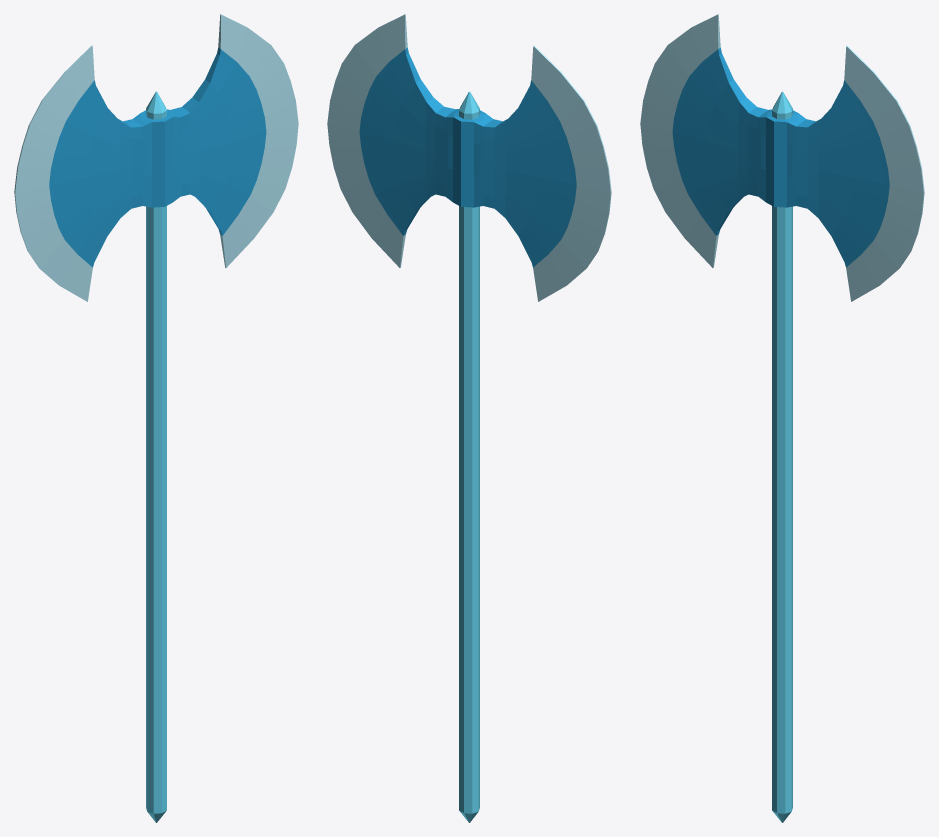
Rendered from two_handed_axe_1.fbx.
3 views of the same model, side by side, from view 1: azimuth 30°, elevation 25°; view 2: azimuth 150°, elevation 25°; view 3: azimuth 330°, elevation 25° (orthographic).
Visible parts, largest first — view 1: two_handed_axe_1; view 2: two_handed_axe_1; view 3: two_handed_axe_1.
Boxes of the visible parts, box(x1,y1,x2,y2) form: two_handed_axe_1: box(14, 14, 298, 822); two_handed_axe_1: box(327, 14, 611, 822); two_handed_axe_1: box(640, 14, 924, 822).
Size of the model in its own units: 0.707 by 1.89 by 0.0736.
Materials: 1 (1 with a texture image).
